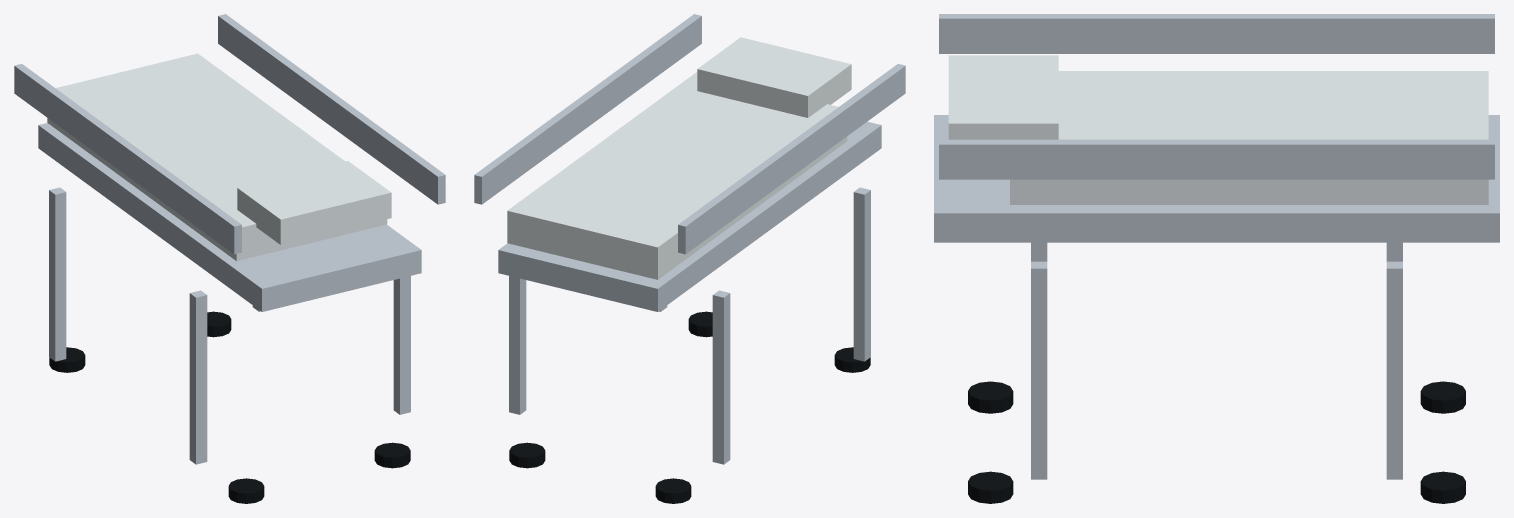
Rendered from patient_stretcher_proxy.obj.
3 views of the same model, side by side, from view 1: azimuth 30°, elevation 25°; view 2: azimuth 150°, elevation 25°; view 3: azimuth 270°, elevation 25° (orthographic). The views are drawn at different scales.
Parts seen in each view (by area): view 1: patient_stretcher_proxy; view 2: patient_stretcher_proxy; view 3: patient_stretcher_proxy.
Part boxes in pixels (x1,y1,x2,y2): patient_stretcher_proxy: (14,14,445,503); patient_stretcher_proxy: (474,14,905,503); patient_stretcher_proxy: (934,14,1499,503).
Bounding box in the file's own units: 0.97 × 1.26 × 1.75.
